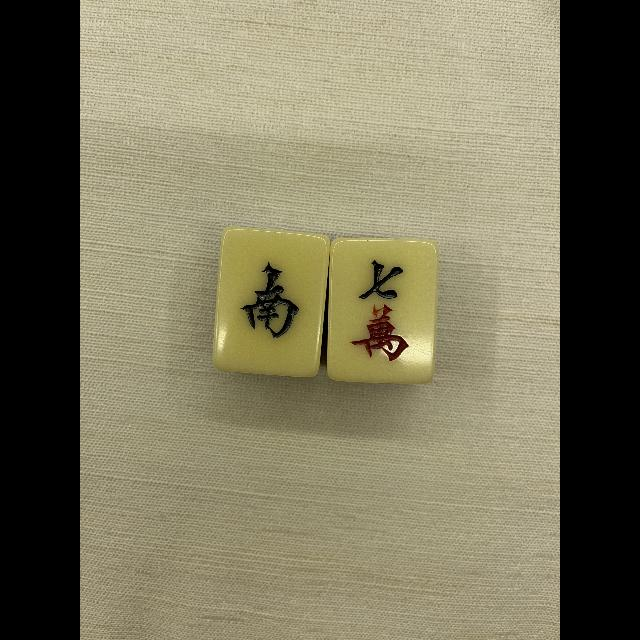c7: (331, 240, 433, 378)
ws: (220, 228, 318, 369)
